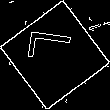L_E: (28, 36, 82, 74)
